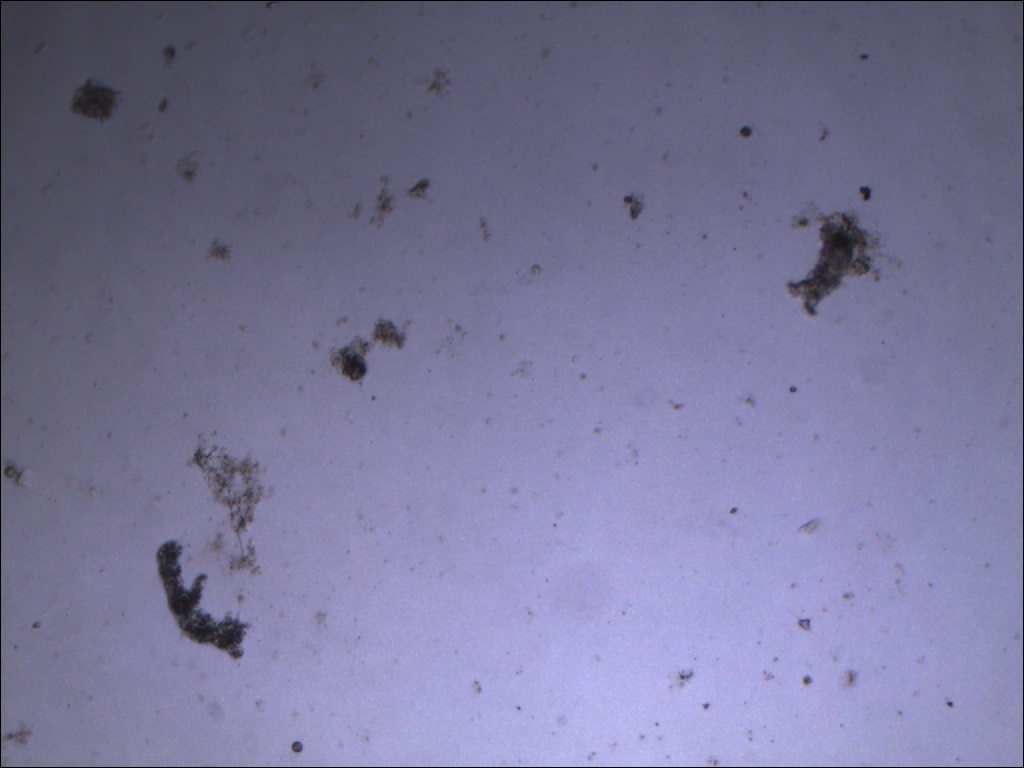amoeba: (153, 538, 250, 666)
